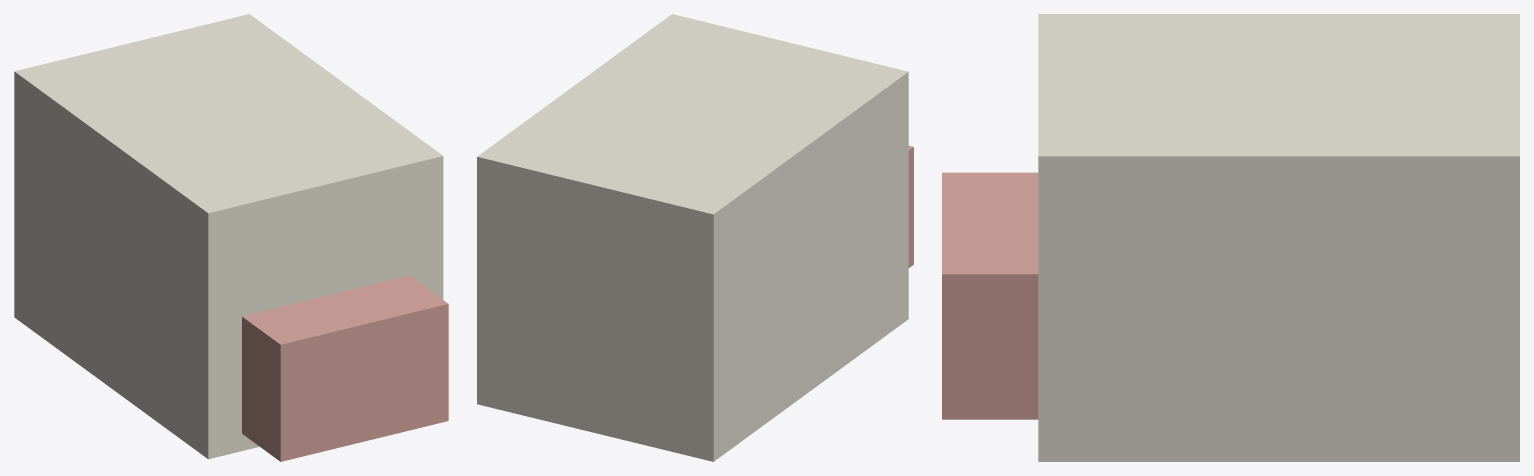
The model's file is cow-head.glb.
3 views of the same model, side by side, from view 1: azimuth 30°, elevation 25°; view 2: azimuth 150°, elevation 25°; view 3: azimuth 270°, elevation 25° (orthographic). The views are drawn at different scales.
Visible parts, largest first — view 1: 00_paint0_r110, 01_#d8a8a0_noshadow_r110; view 2: 00_paint0_r110, 01_#d8a8a0_noshadow_r110; view 3: 00_paint0_r110, 01_#d8a8a0_noshadow_r110.
Part boxes in pixels (<box>): 00_paint0_r110: <box>14,14,443,459</box>; 01_#d8a8a0_noshadow_r110: <box>242,275,448,461</box>; 00_paint0_r110: <box>477,14,908,461</box>; 01_#d8a8a0_noshadow_r110: <box>908,145,913,267</box>; 00_paint0_r110: <box>1038,14,1519,461</box>; 01_#d8a8a0_noshadow_r110: <box>942,172,1038,419</box>.
Bounding box in the file's own units: 0.42 × 0.42 × 0.72.
